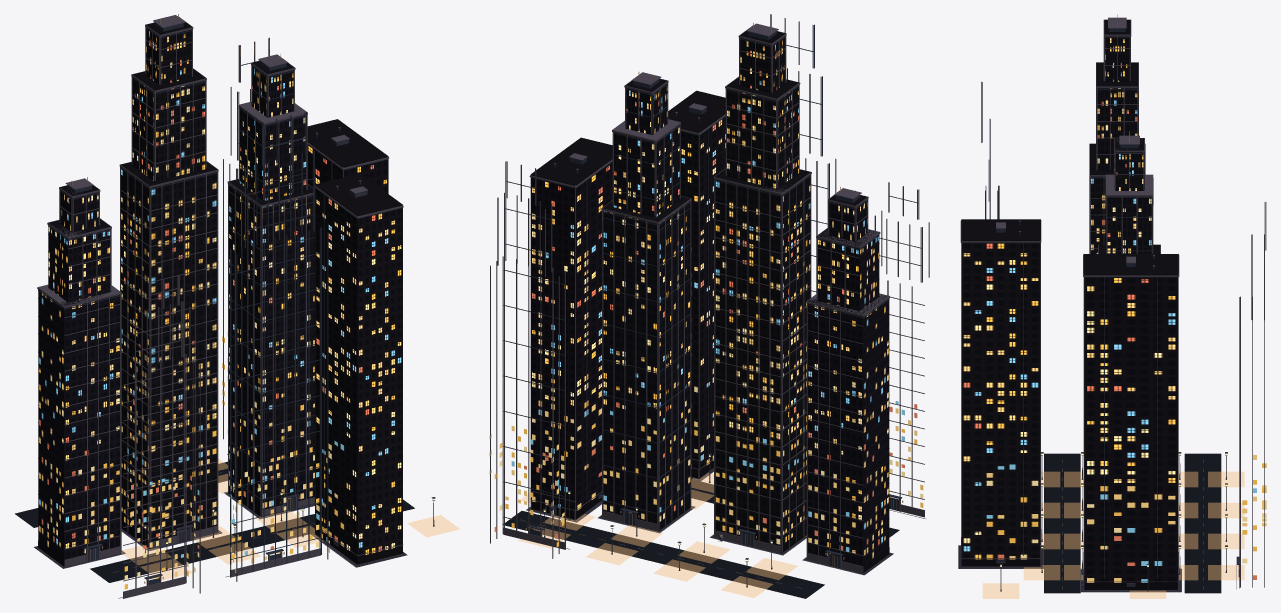
File: real-assets.glb
3 renders of one model, left to right at view 1: azimuth 30°, elevation 25°; view 2: azimuth 150°, elevation 25°; view 3: azimuth 270°, elevation 25°, orthographic. The views are drawn at different scales.
Parts seen in each view (by area): view 1: REAL GAME ASSETS; view 2: REAL GAME ASSETS; view 3: REAL GAME ASSETS.
Part boxes in pixels (x1,y1,x2,y2): REAL GAME ASSETS: [15, 14, 459, 598]; REAL GAME ASSETS: [489, 14, 929, 598]; REAL GAME ASSETS: [958, 14, 1266, 598].
Size of what is drawn, in the model's own units: 119 by 174 by 101.
70 materials, 7 textured.
